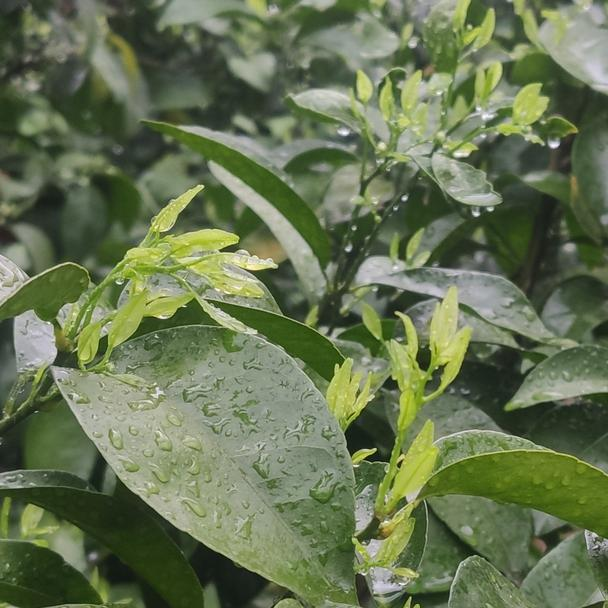shoot: (75, 206, 268, 323), (384, 297, 476, 424)
